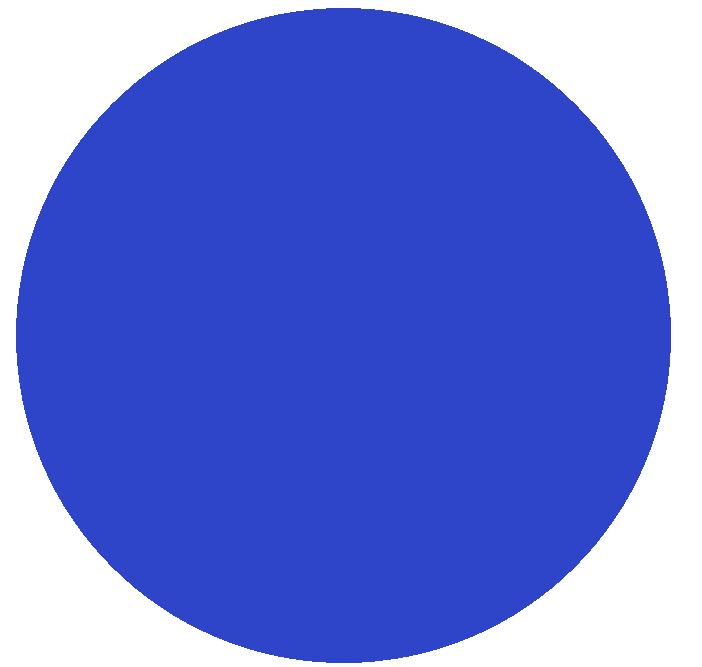blue_circle: (0, 0, 675, 667)
